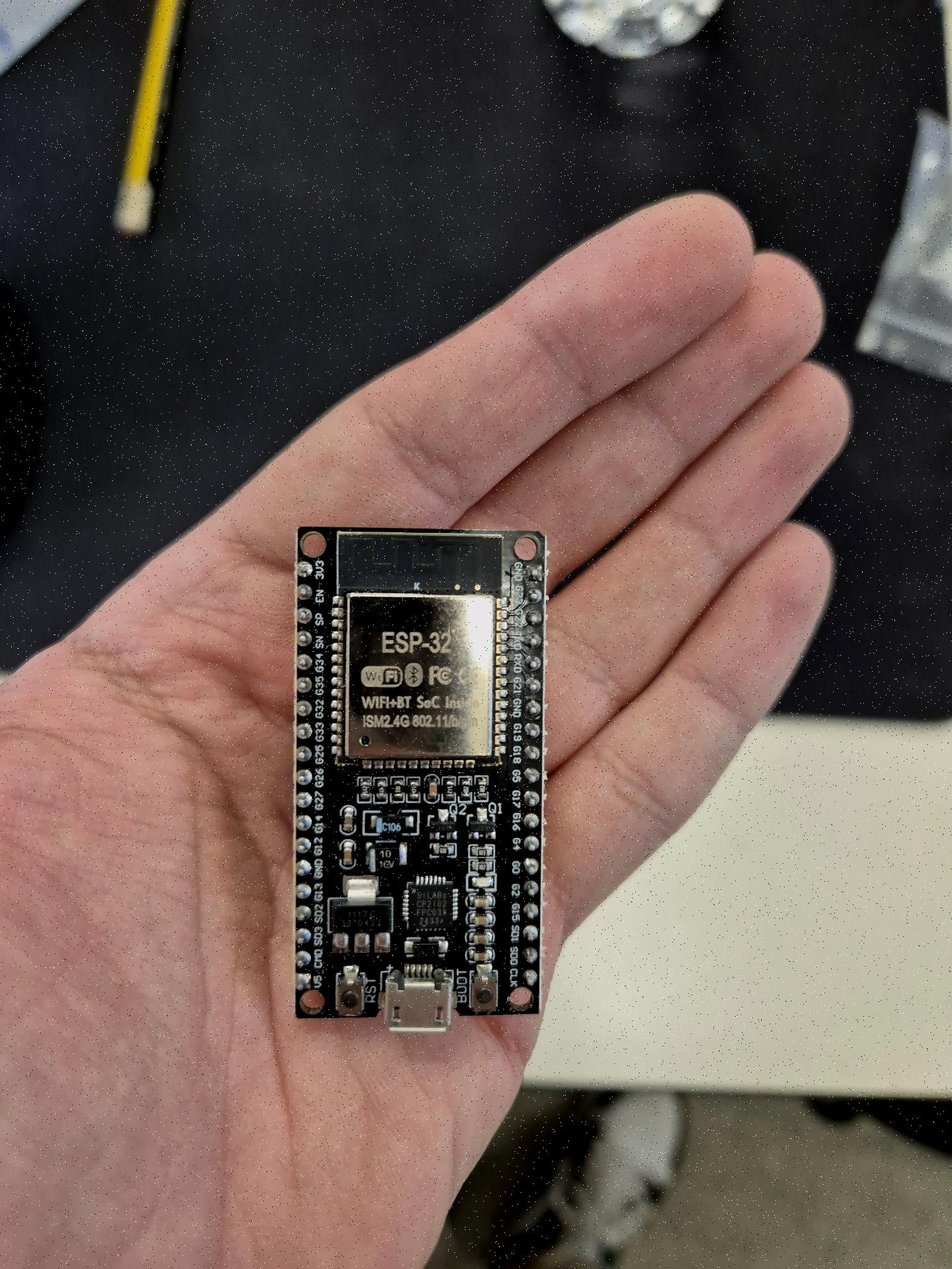esp32-dev: (295, 528, 545, 1030)
